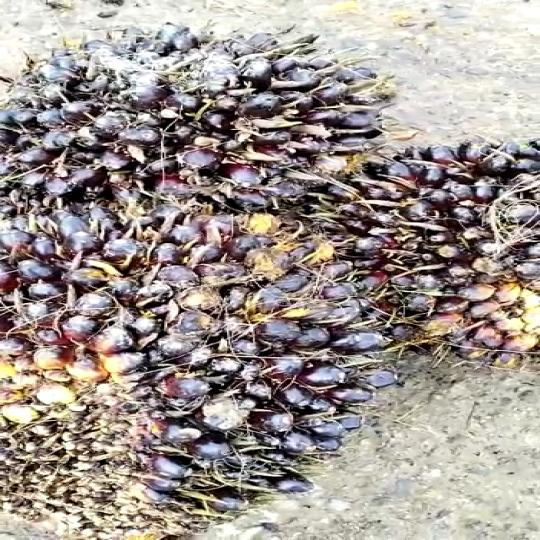mentah: (0, 183, 381, 537), (0, 19, 397, 218), (283, 119, 538, 367)
